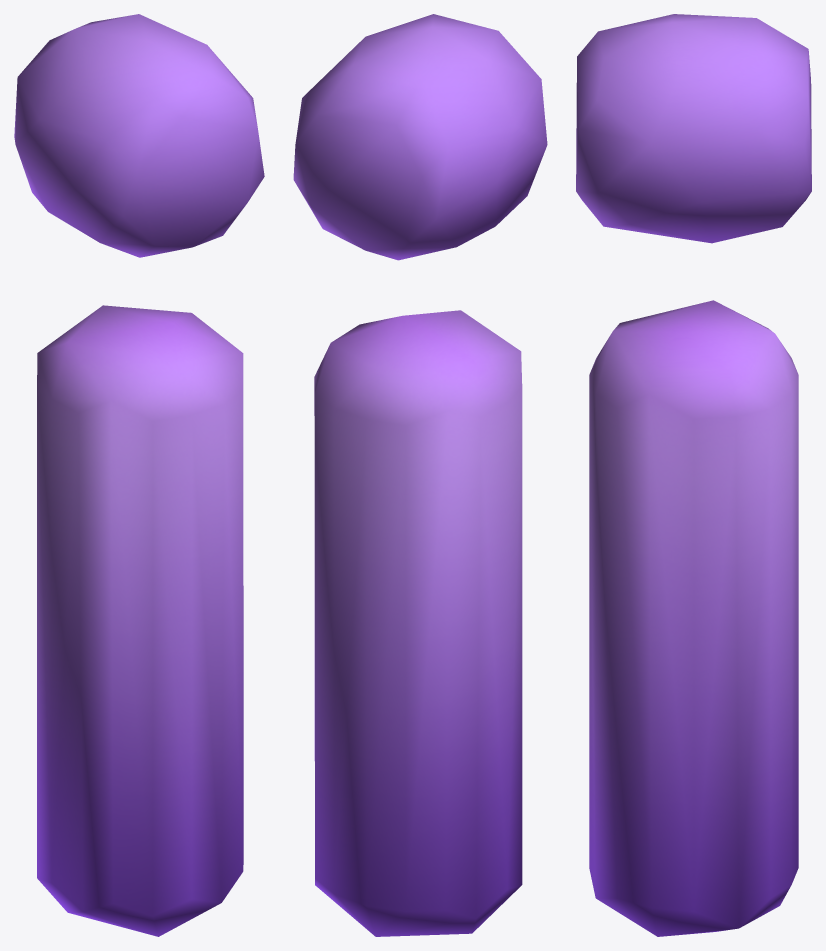
3 views of the same model, side by side, from view 1: azimuth 30°, elevation 25°; view 2: azimuth 150°, elevation 25°; view 3: azimuth 270°, elevation 25° (orthographic).
Visible parts, largest first — view 1: Processed_Mesh0_Geometry; view 2: Processed_Mesh0_Geometry; view 3: Processed_Mesh0_Geometry.
Boxes of the visible parts, x1=… form: Processed_Mesh0_Geometry: x1=14, y1=14, x2=264, y2=936; Processed_Mesh0_Geometry: x1=293, y1=14, x2=547, y2=936; Processed_Mesh0_Geometry: x1=576, y1=14, x2=811, y2=936.
Size of what is drawn, in the model's own units: 0.0191 by 0.0813 by 0.0193.
1 material, 1 textured.
